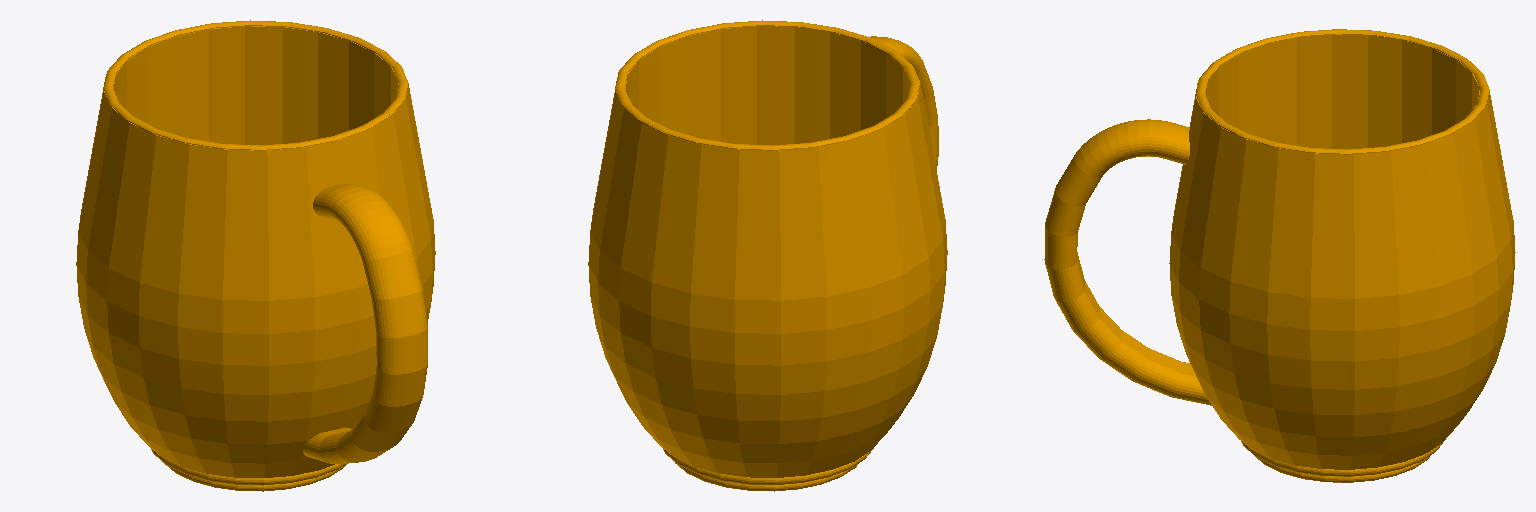
robot.urdf — obj_6:
<?xml version="1.0"?>
<robot name="obj_6">
  <link name="obj_6">
    <visual>
      <origin xyz="0.0 0.0 0.0" rpy="0 0 0"/>
      <geometry>
        <mesh filename="../mesh/ncf_mug_cupholder/obj_assets/6/obj_collision.obj" scale="1 1 1"/>
      </geometry>
    </visual>
    <collision>
      <origin xyz="0.0 0.0 0.0" rpy="0 0 0"/>
      <geometry>
        <mesh filename="../mesh/ncf_mug_cupholder/obj_assets/6/obj_collision.obj" scale="1 1 1"/>
      </geometry>
      <sdf resolution="512"/>
    </collision >    
    <inertial>
      <mass value="0.102"/>
      <inertia ixx="0.0001" ixy="0.0" ixz="0.0" iyy="0.0001" iyz="0.0" izz="0.0001"/>
    </inertial>
  </link>
</robot>

--- Facts derived from the render (not from the file) ---
The picture shows the robot from 3 angles, left to right: view 1: azimuth 30°, elevation 25°; view 2: azimuth 150°, elevation 25°; view 3: azimuth 270°, elevation 25°; orthographic projection.
Robot: obj_6 — 1 links, 0 joints (none); root link obj_6; default pose: all joints at 0.
Links seen in each view (by area): view 1: obj_6; view 2: obj_6; view 3: obj_6.
Boxes of the visible links, box(x1,y1,x2,y2) form: obj_6: box(76, 20, 435, 491); obj_6: box(588, 20, 947, 491); obj_6: box(1044, 29, 1515, 482).
Size in the robot's own frame: 0.0841 by 0.1145 by 0.0951 metres.
1 mesh visuals loaded from 1 distinct referenced files (1 OBJ).